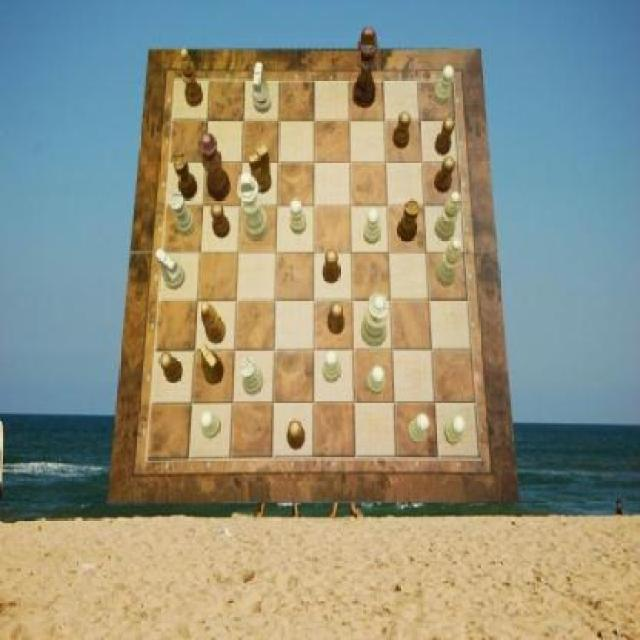bishop: (180, 48, 204, 106), (202, 302, 226, 346)
black-bishop: (354, 28, 378, 109)
black-king: (248, 146, 272, 194), (200, 343, 225, 385)
black-knight: (158, 352, 182, 385), (436, 117, 456, 155), (211, 203, 231, 239), (434, 157, 454, 193), (394, 111, 411, 149), (322, 249, 339, 284), (328, 302, 345, 336), (288, 420, 305, 451)
black-pawn: (198, 132, 232, 202)
black-queen: (174, 152, 198, 200), (397, 198, 420, 242)
black-rook: (436, 191, 462, 240), (437, 239, 461, 286)
white-bishop: (237, 174, 269, 241)
white-king: (156, 249, 186, 291), (252, 61, 272, 112)
white-knight: (434, 66, 454, 106), (408, 414, 430, 446), (364, 208, 382, 244), (445, 416, 467, 444), (323, 349, 341, 383), (290, 199, 308, 233), (200, 411, 221, 438), (368, 366, 385, 396)
white-pawn: (362, 292, 391, 347)
white-queen: (171, 191, 197, 236), (240, 357, 264, 395)
